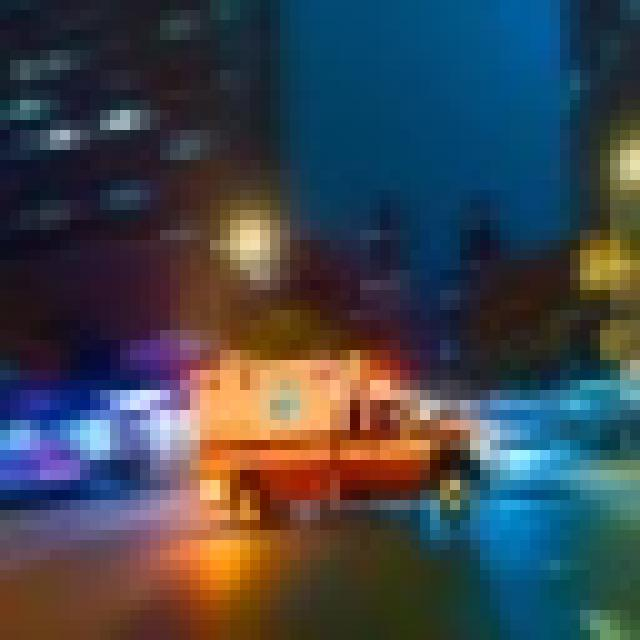Ambulance: (180, 340, 480, 520)
